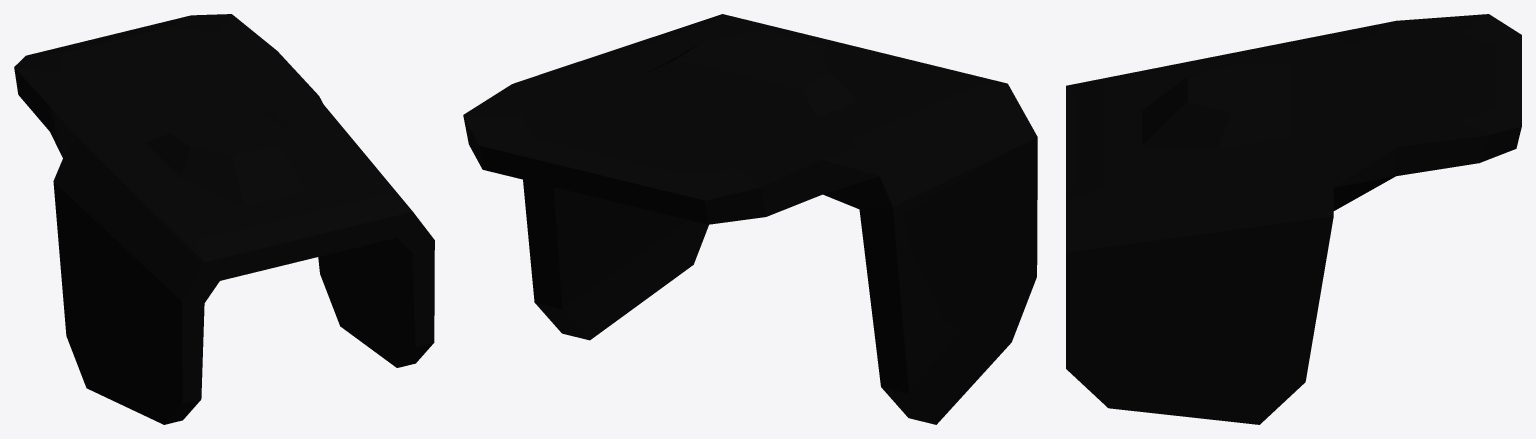
Rendered from space_SM_Veh_Part_Misc_08.gltf.
The picture shows the model from 3 angles, left to right: view 1: azimuth 30°, elevation 25°; view 2: azimuth 150°, elevation 25°; view 3: azimuth 270°, elevation 25°; orthographic projection. The views are drawn at different scales.
Visible parts, largest first — view 1: SM_Veh_Part_Misc_08; view 2: SM_Veh_Part_Misc_08; view 3: SM_Veh_Part_Misc_08.
Boxes of the visible parts, x1=… form: SM_Veh_Part_Misc_08: x1=14, y1=14, x2=434, y2=424; SM_Veh_Part_Misc_08: x1=463, y1=14, x2=1037, y2=424; SM_Veh_Part_Misc_08: x1=1066, y1=14, x2=1521, y2=424.
Bounding box in the file's own units: 0.8218 × 0.6864 × 1.03.
1 material, 1 textured.
